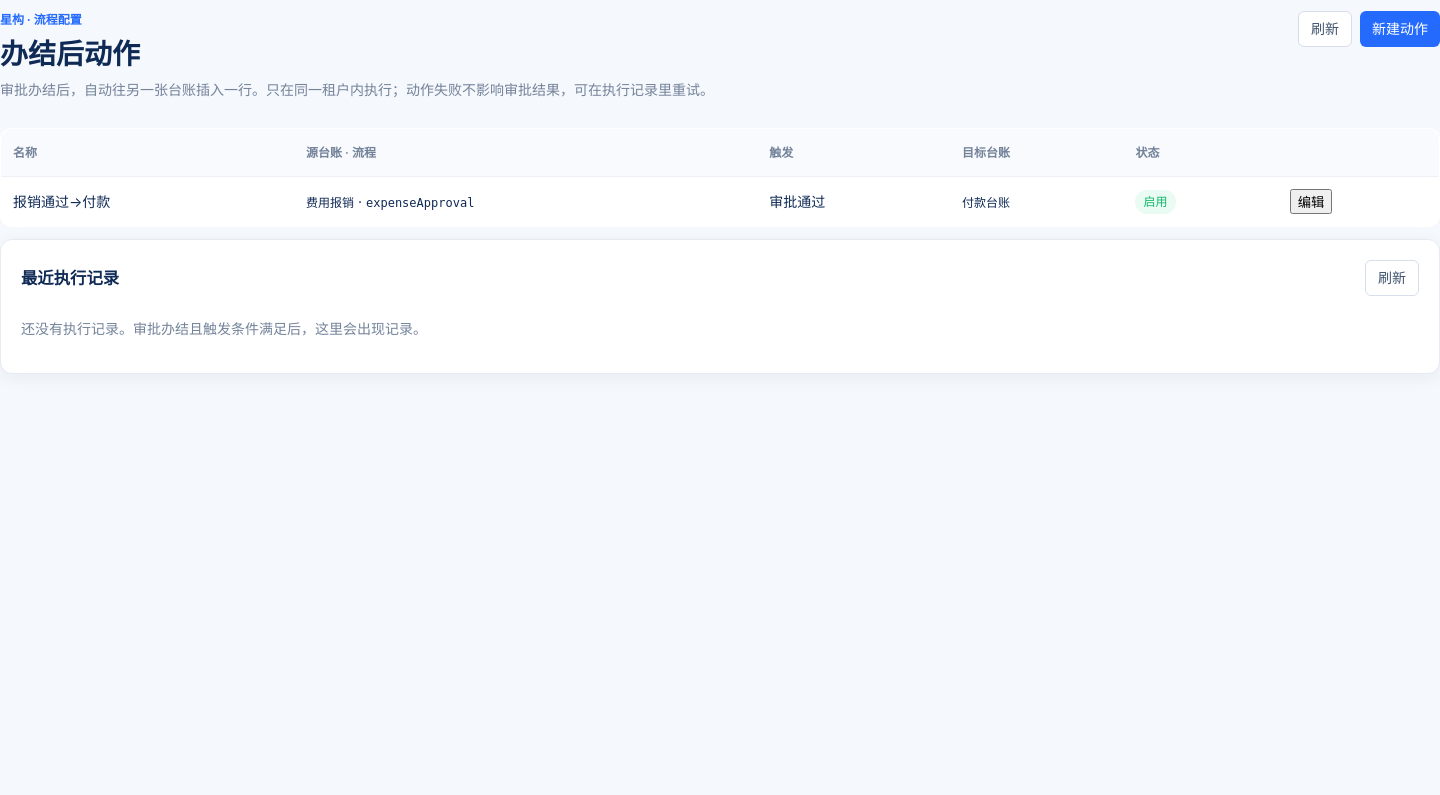
Scenario: FA5 post-completion actions page › previews a row for an existing action without saving
This screenshot has width=1440, height=795.
Click the button "编辑". click: (1311, 202)
box: [1290,189,1332,214]
(page scrolled)
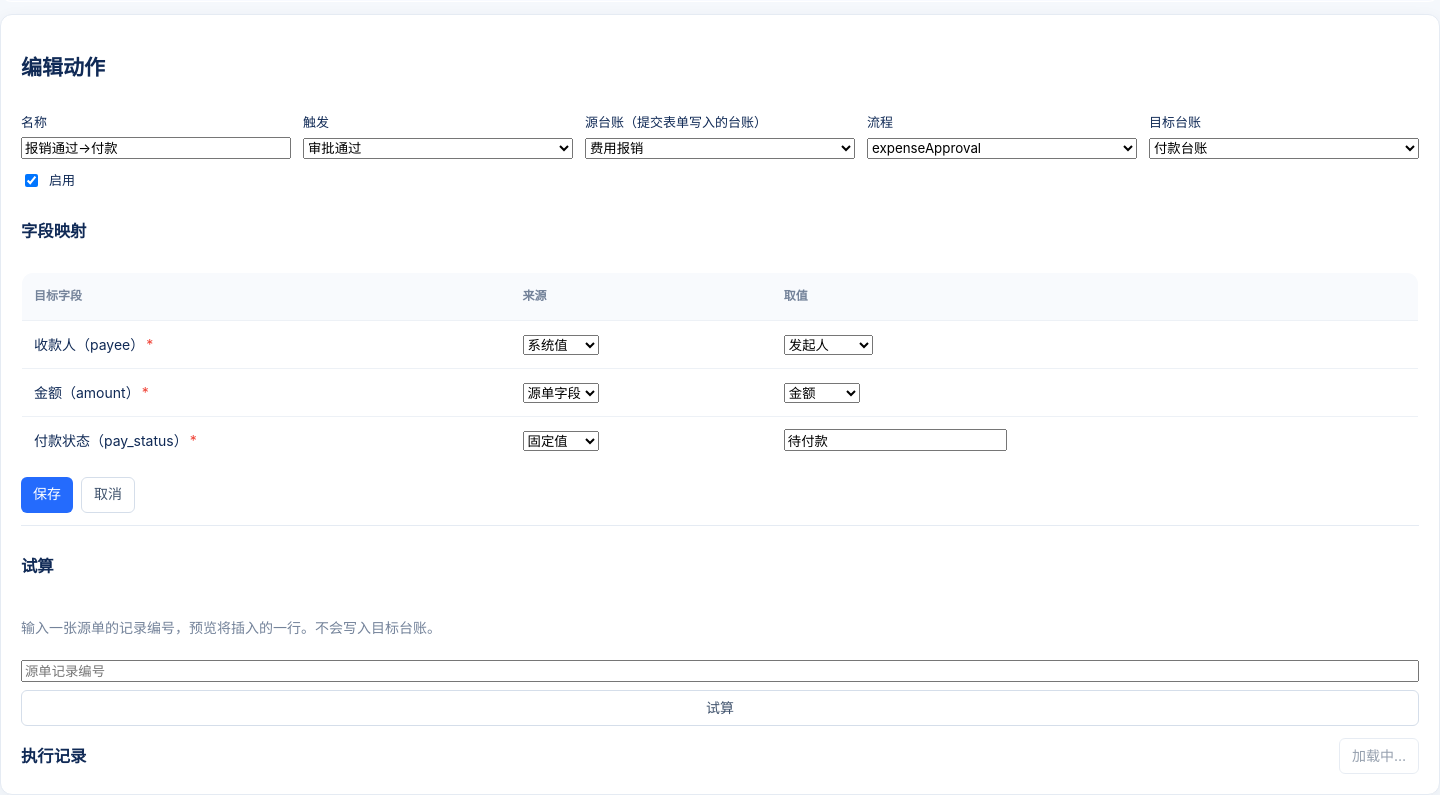
Type "rec-1" into the field with test id "action-preview-record". click: (720, 671)
box: [21,660,1419,682]
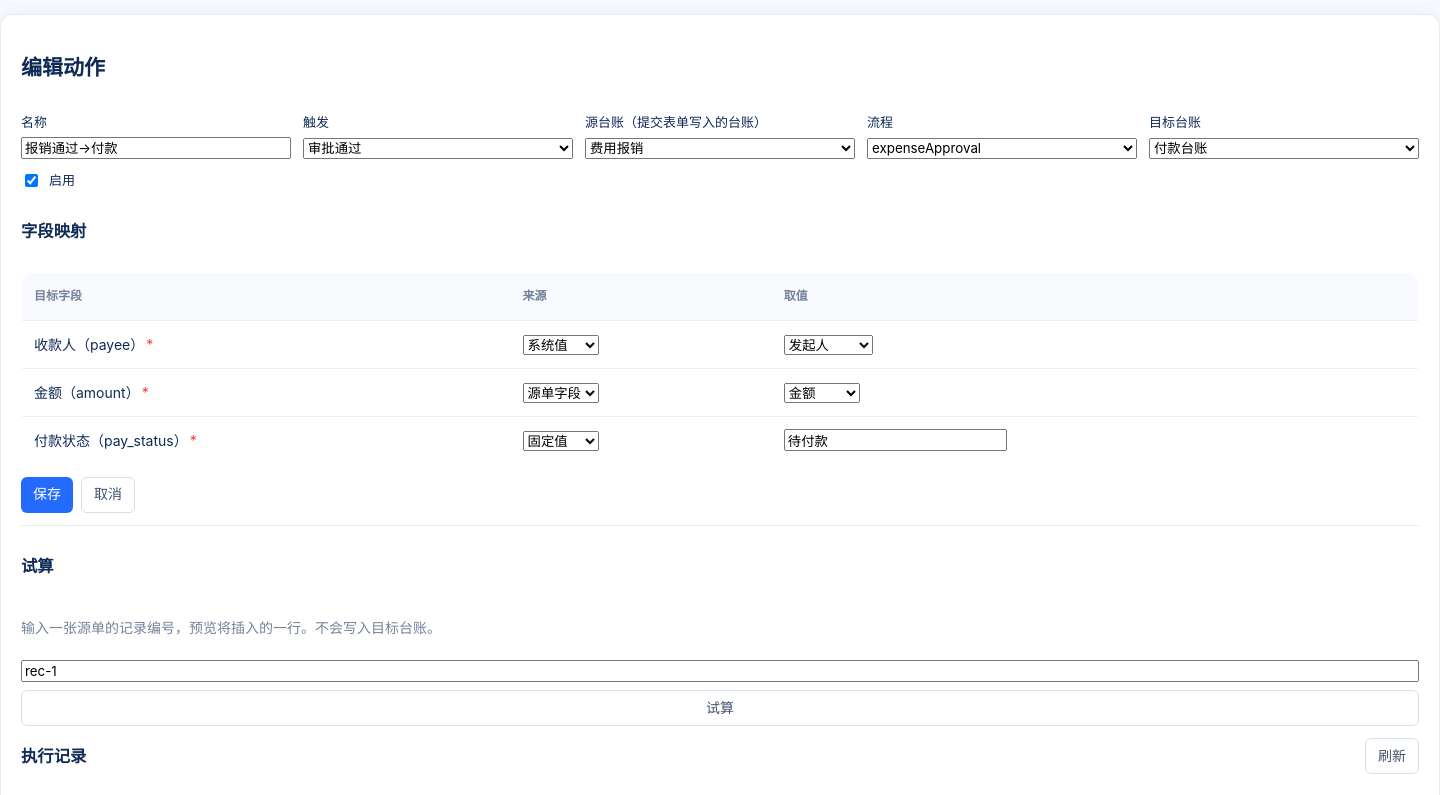
Click the button with test id "action-preview-run". click: (720, 708)
box: [21,690,1419,726]
(page scrolled)
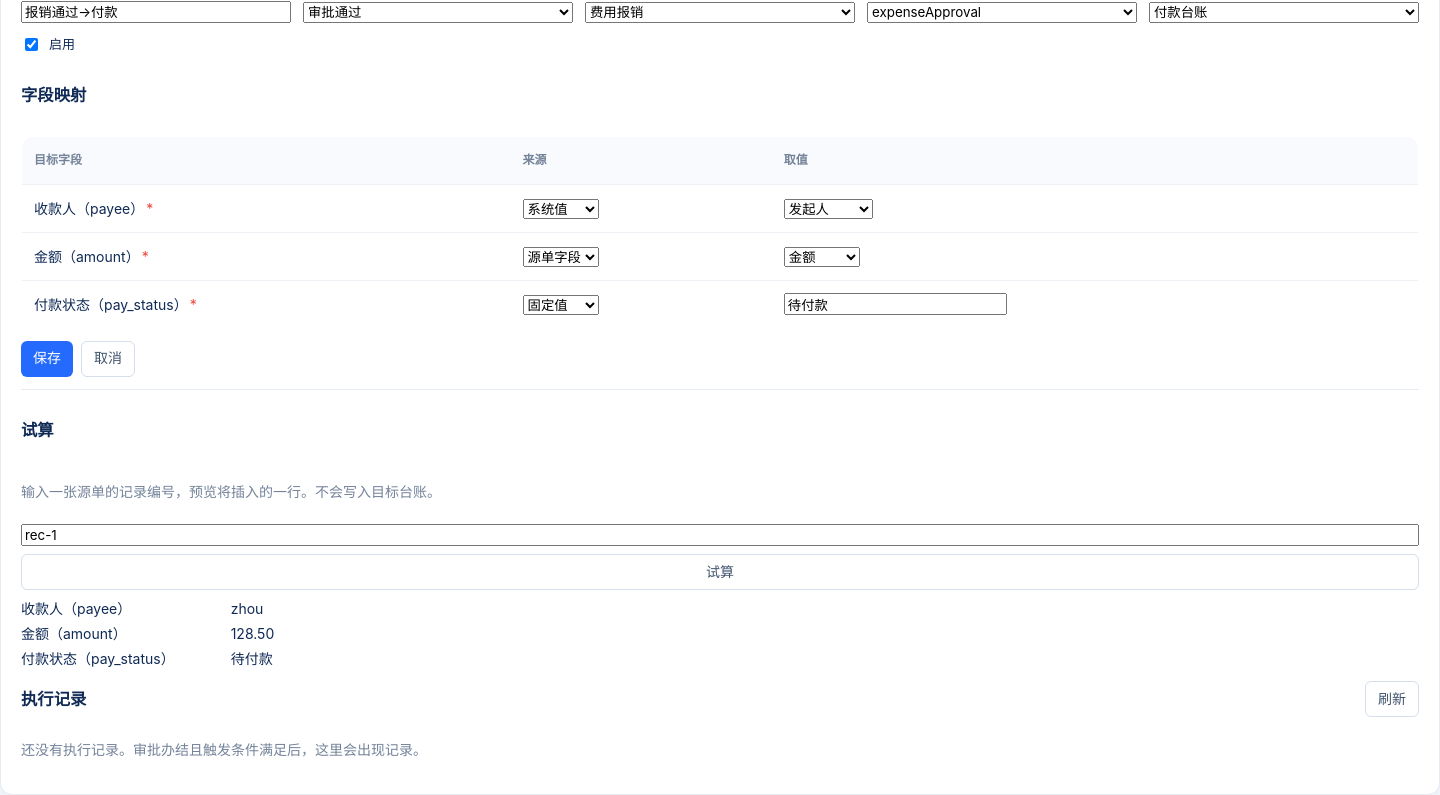
Expected: the element with test id "action-preview-row" shows "待付款", [231,650,273,667]
